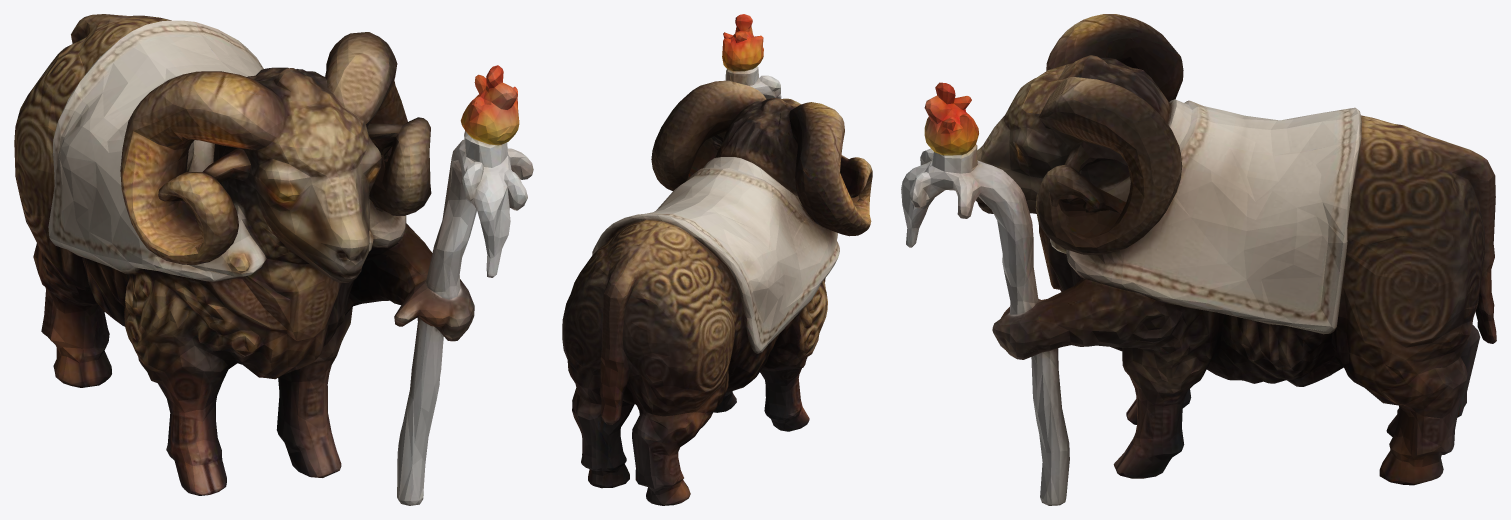
The model's file is emberlamb__shepherdsFlame.glb.
The picture shows the model from 3 angles, left to right: view 1: azimuth 30°, elevation 25°; view 2: azimuth 150°, elevation 25°; view 3: azimuth 270°, elevation 25°; orthographic projection. The views are drawn at different scales.
Visible parts, largest first — view 1: world; view 2: world; view 3: world.
Boxes of the visible parts, box(x1,y1,x2,y2) form: world: box(14, 14, 533, 505); world: box(562, 14, 872, 505); world: box(901, 14, 1496, 505).
Size of the model in its own units: 0.5565 by 0.7986 by 1.
1 material, 1 textured.
